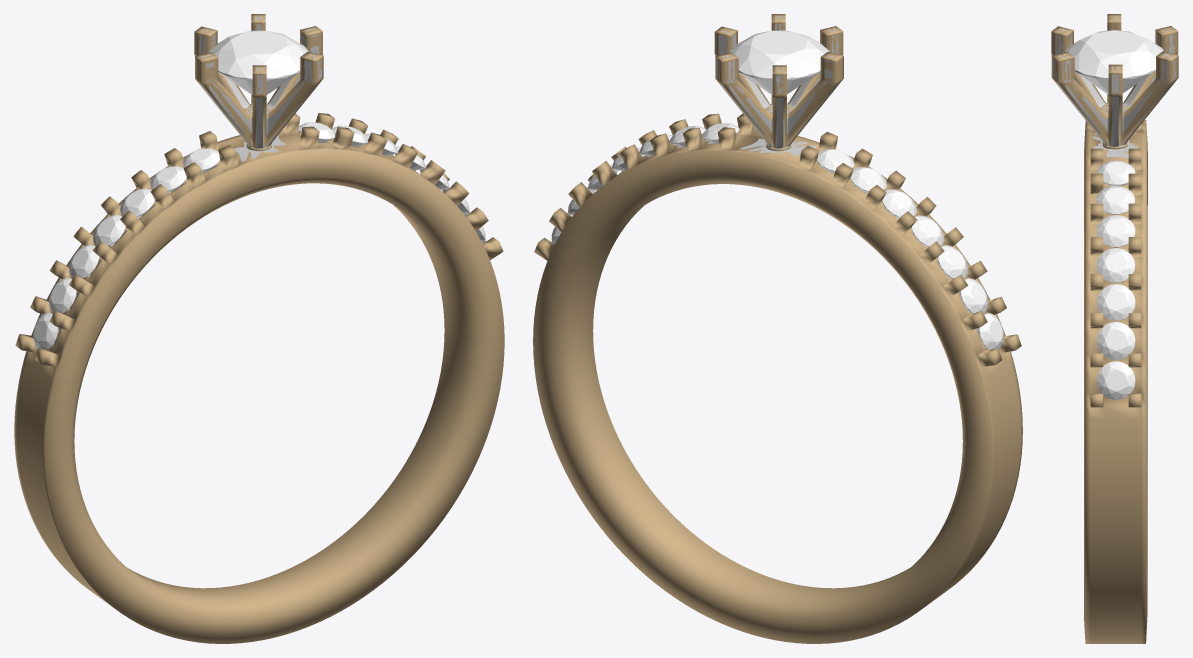
Rendered from ring.glb.
3 views of the same model, side by side, from view 1: azimuth 30°, elevation 25°; view 2: azimuth 150°, elevation 25°; view 3: azimuth 270°, elevation 25° (orthographic).
Parts seen in each view (by area): view 1: Round.007, Round_Round.007, Round; view 2: Round.007, Round_Round.007, Round; view 3: Round.007, Round_Round.007, Round.
Boxes of the visible parts, <box> form: Round.007: <box>14,14,504,643</box>; Round_Round.007: <box>33,16,485,349</box>; Round: <box>33,30,485,349</box>; Round.007: <box>533,14,1022,643</box>; Round_Round.007: <box>551,16,1003,349</box>; Round: <box>551,30,1003,349</box>; Round.007: <box>1051,14,1178,643</box>; Round_Round.007: <box>1053,16,1175,399</box>; Round: <box>1065,30,1163,399</box>.
Size of what is drawn, in the model's own units: 1.99 by 2.41 by 0.4826.
